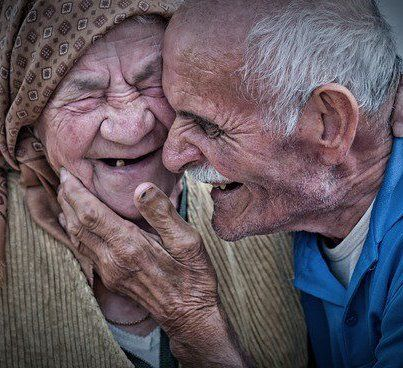without_mask: (180, 34, 340, 237), (36, 35, 184, 219)
